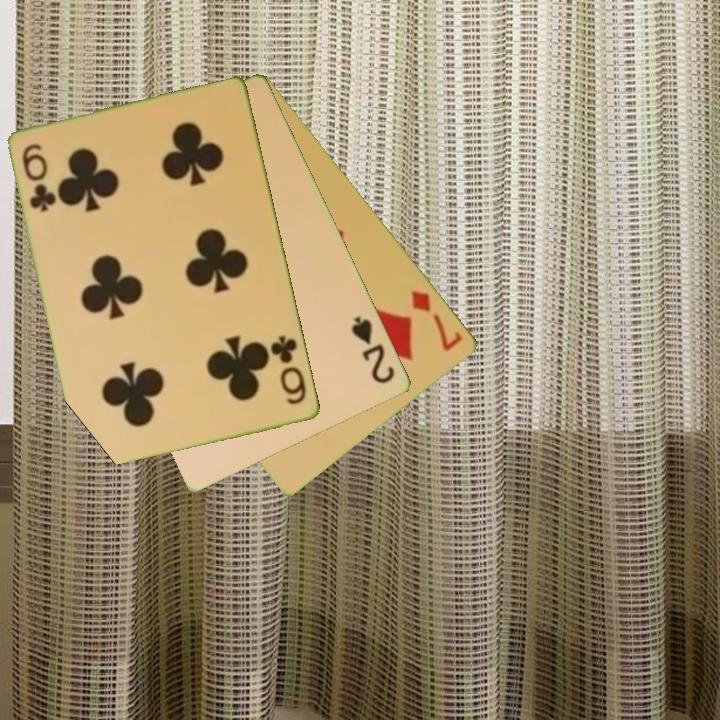2s: (348, 313, 399, 387)
6c: (267, 332, 310, 408), (19, 140, 59, 215)
7d: (408, 286, 467, 354)
